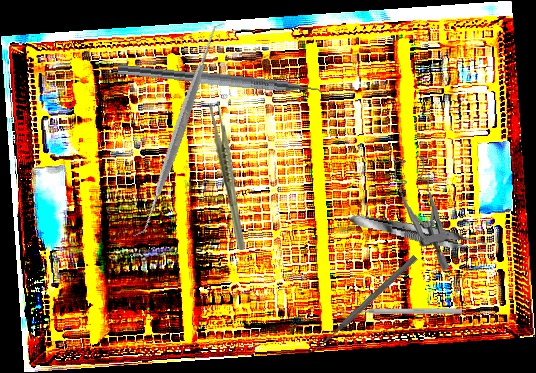Chopper: (116, 63, 334, 109)
Pusher: (312, 253, 419, 354), (341, 307, 462, 315)
Spatula Surgical: (73, 22, 285, 238)
Speculum: (393, 154, 451, 274)
Tissue Forceps: (346, 208, 490, 257), (209, 101, 246, 250)
